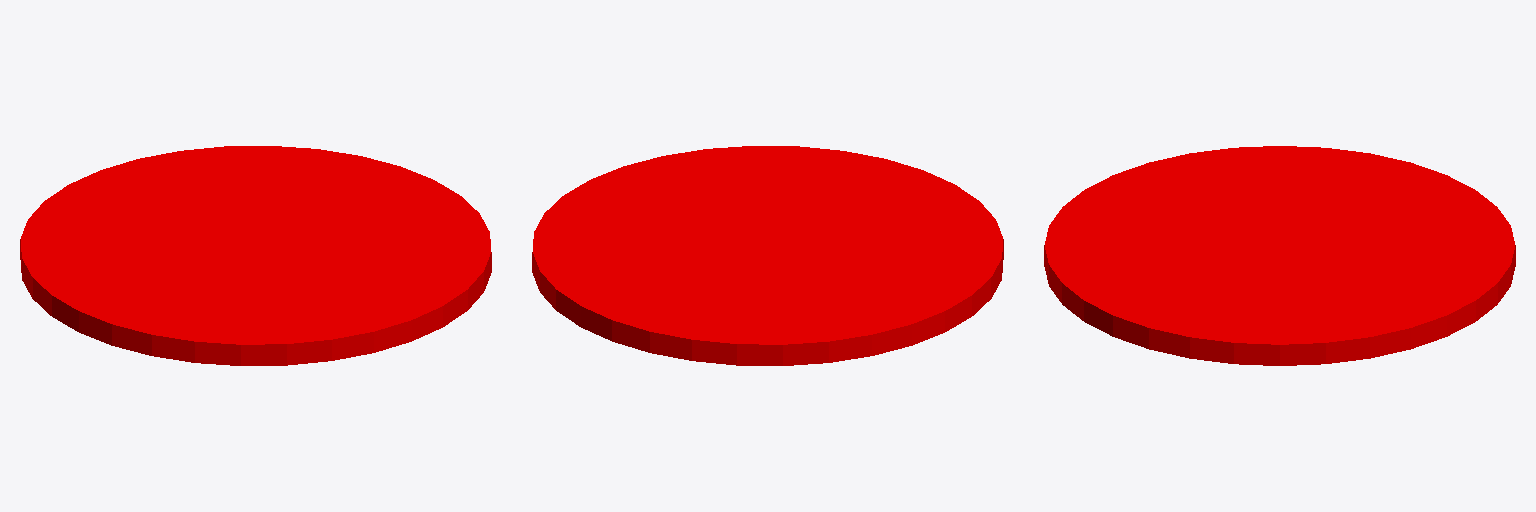
URDF robot description (axis):
<?xml version="1.0" ?>
<robot name="axis">
  <link name="world"/>
  <link name="x_link">
    <visual>
      <origin rpy="0 0 0" xyz="0.005 0 0"/>
      <geometry>
				<cylinder radius="0.1" length="0.01"/>
      </geometry>
       <material name="red">
        <color rgba="1 0.0 0 1"/>
      </material>
    </visual>
  </link>


 <joint name="x_joint" type="fixed">
    <origin xyz="0 0 0" rpy="0 0 0"/>
    <parent link="world"/>
    <child link="x_link"/>
 </joint>

</robot>

--- What the picture shows (computed from the rendered views, not written in the file) ---
3 views of the same robot in one strip: view 1: azimuth 30°, elevation 25°; view 2: azimuth 150°, elevation 25°; view 3: azimuth 270°, elevation 25° (orthographic).
Robot: axis — 2 links, 1 joints (1 fixed); root link world; default pose: all joints at 0.
Visible links, largest first — view 1: x_link; view 2: x_link; view 3: x_link.
Boxes of the visible links, <box> form: x_link: <box>20,146,491,365</box>; x_link: <box>532,146,1003,365</box>; x_link: <box>1044,146,1515,365</box>.
Size in the robot's own frame: 0.2 by 0.2 by 0.01 metres.
Geometry: primitives only (box / cylinder / sphere), no mesh files.
